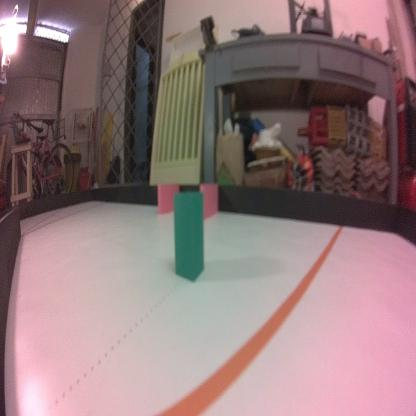green: (170, 189, 206, 283)
magenta: (157, 182, 179, 215), (201, 184, 220, 217)
